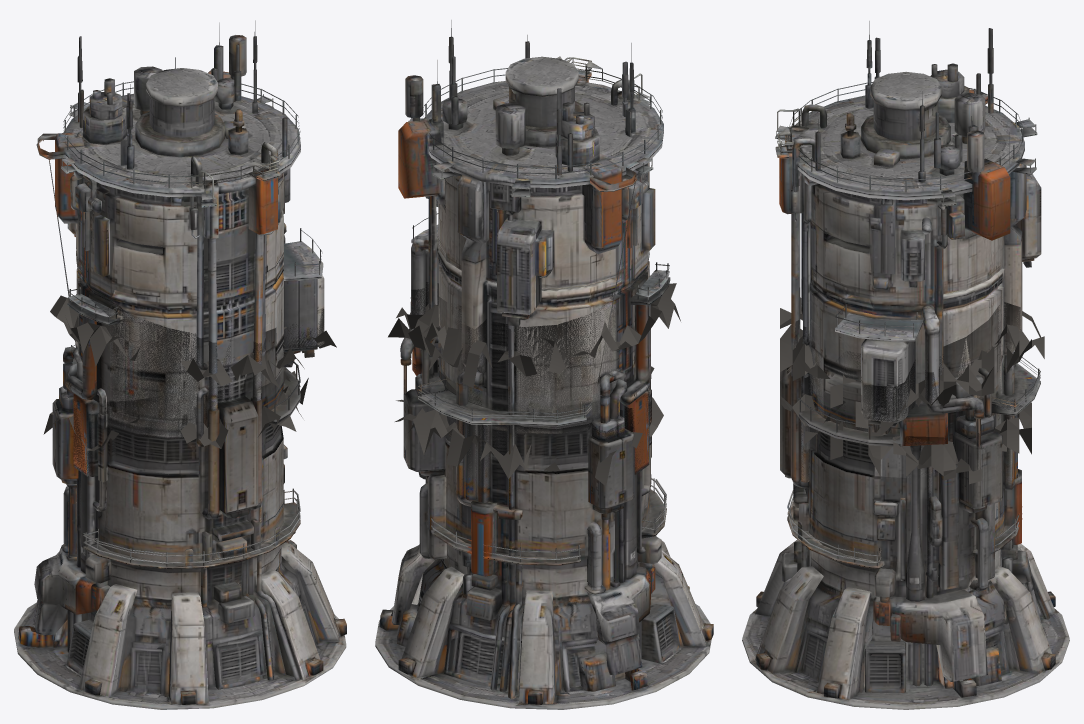
File: thap_tron.glb
3 renders of one model, left to right at view 1: azimuth 30°, elevation 25°; view 2: azimuth 150°, elevation 25°; view 3: azimuth 270°, elevation 25°, orthographic. The views are drawn at different scales.
Parts seen in each view (by area): view 1: do_1, nguyen, do_2; view 2: do_1, nguyen, do_2; view 3: do_1, nguyen, do_2.
Part boxes in pixels (x1,y1,x2,y2): do_1: (14, 355, 346, 709); nguyen: (36, 20, 324, 438); do_2: (50, 278, 336, 566); do_1: (375, 358, 713, 709); nguyen: (398, 20, 669, 555); do_2: (388, 268, 680, 581); do_1: (742, 366, 1069, 709); nguyen: (775, 21, 1041, 571); do_2: (780, 279, 1044, 571).
Size of the model in its own units: 37.34 by 75 by 37.26.
2 materials, 1 textured.
